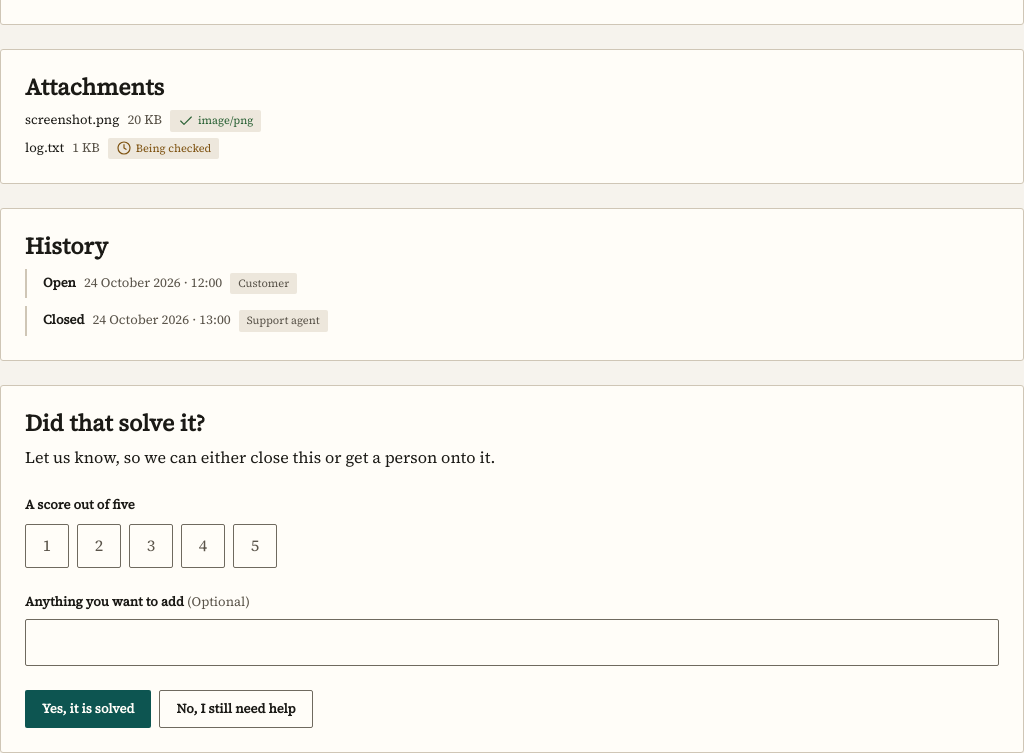
it: the ticket detail › announces the result to a screen reader
(page scrolled)
What coordinates should you click on to do the following:
click the button "Yes, it is solved"
I would click on:
 (88, 709)
Its box is [25,690,152,728].
(page scrolled)
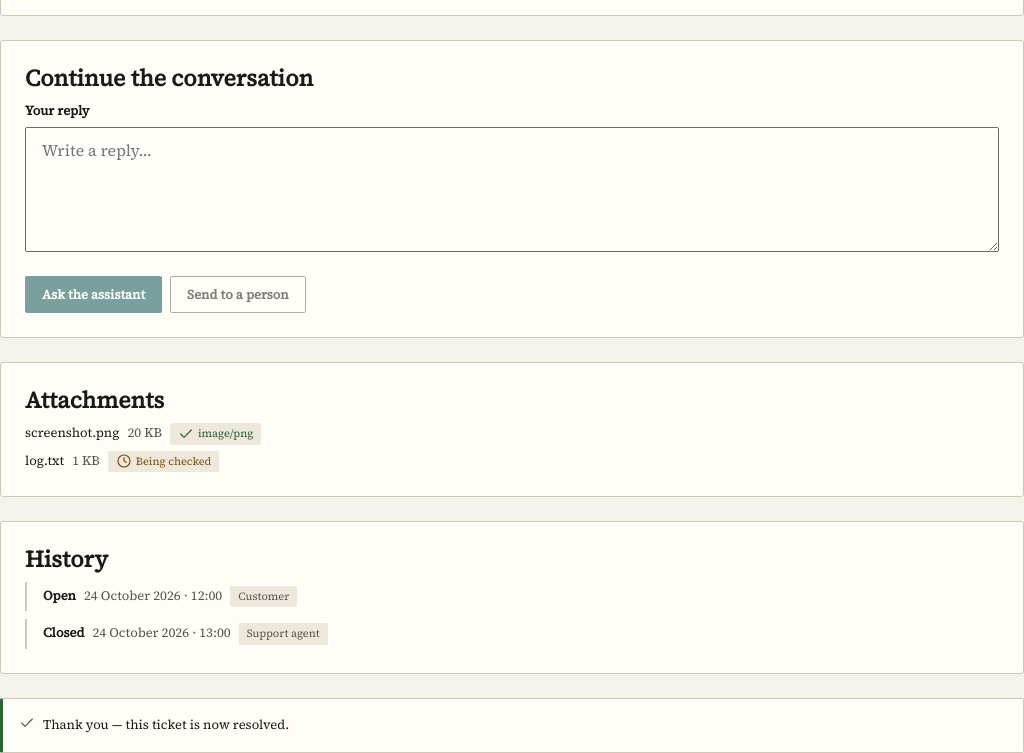
Now the message shows "now resolved", box [43,716,289,733]
